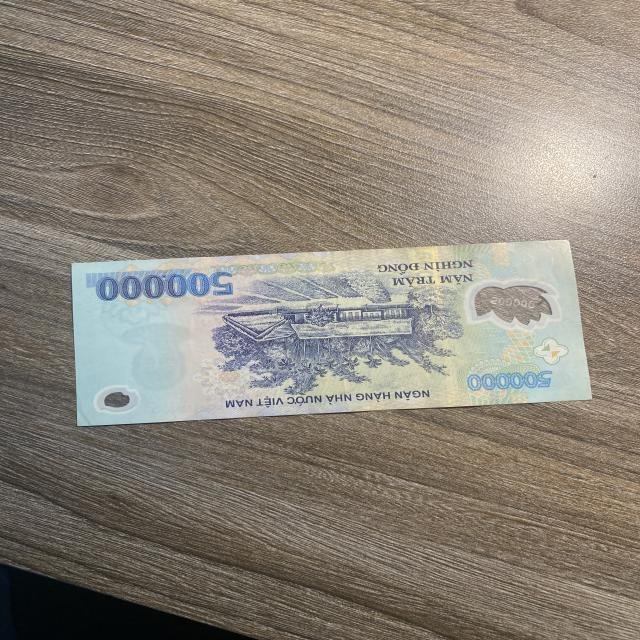500 000 VND: (60, 227, 607, 429)
